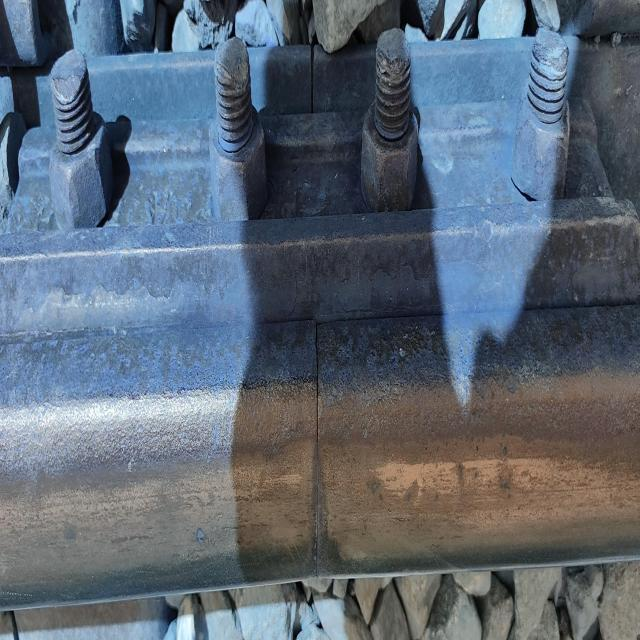Good Joint: (0, 53, 640, 563)
